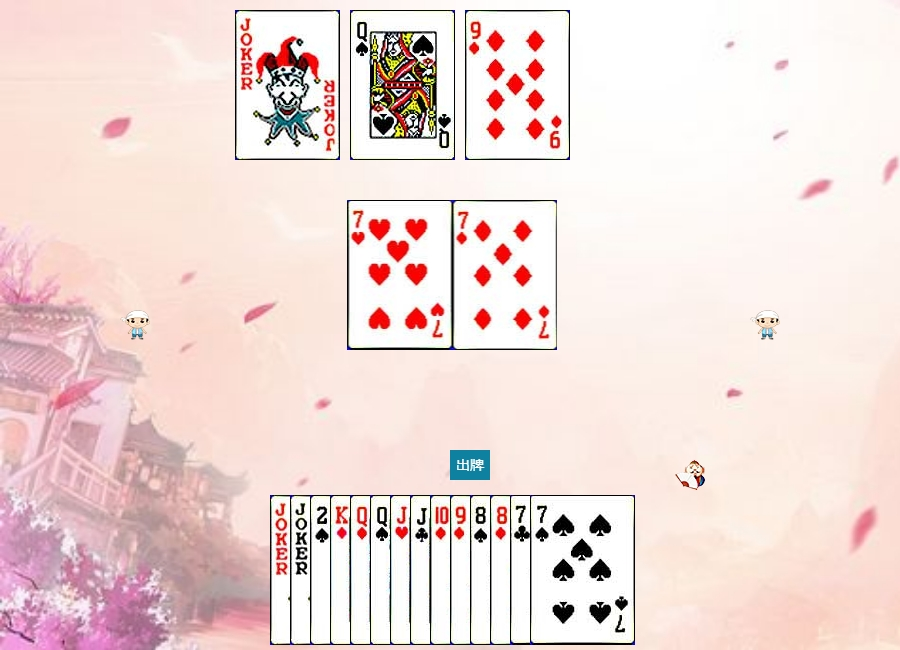10~1: (430, 495, 535, 645)
11~2: (410, 495, 515, 645)
11~3: (390, 495, 495, 645)
12~1: (350, 495, 455, 645)
12~4: (350, 10, 455, 160), (370, 495, 475, 645)
13~1: (330, 495, 435, 645)
15~4: (310, 495, 415, 645)
17~3: (290, 495, 395, 645)
18~4: (235, 10, 340, 160), (270, 495, 375, 645)
7~1: (453, 200, 558, 350)
7~2: (510, 495, 615, 645)
7~3: (348, 200, 453, 350)
7~4: (530, 495, 635, 645)
8~1: (490, 495, 595, 645)
8~4: (470, 495, 575, 645)
9~1: (465, 10, 570, 160), (450, 495, 555, 645)
